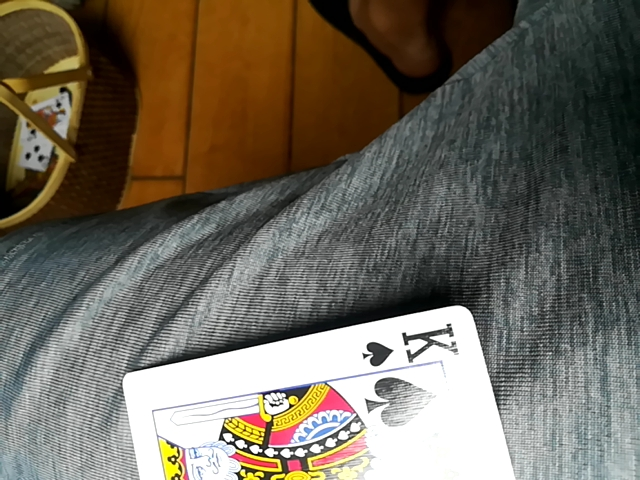ht k: (125, 305, 522, 480)
